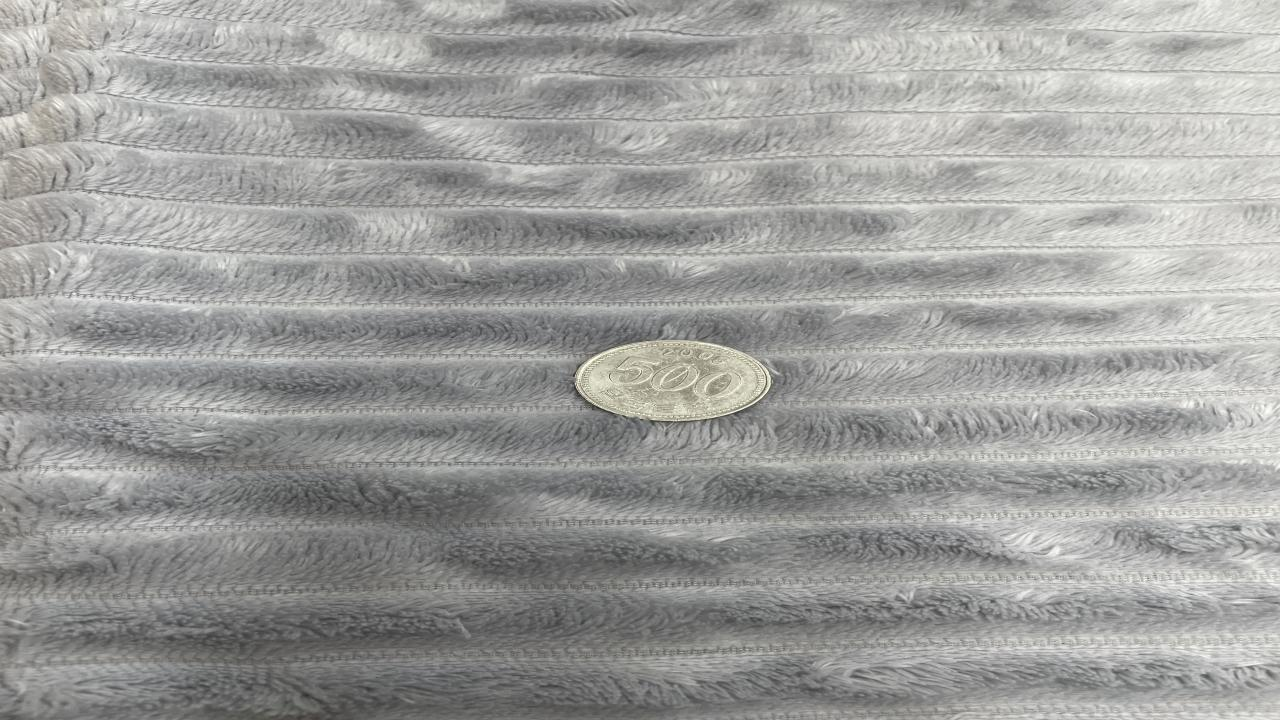coin: (574, 342, 774, 422)
